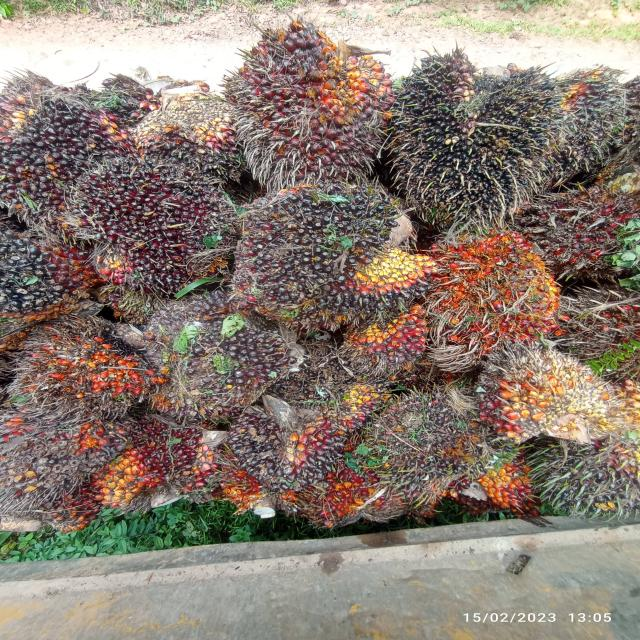fraksi 00: (222, 173, 449, 324), (392, 37, 560, 225), (0, 68, 135, 220), (353, 380, 495, 500), (143, 313, 300, 419), (221, 392, 354, 491)
fraksi 1: (55, 147, 248, 306), (0, 226, 101, 323), (335, 302, 445, 382)
fraksi 3: (202, 18, 406, 185), (76, 410, 228, 516), (494, 173, 638, 277)
fraksi 4: (414, 214, 570, 358), (6, 325, 171, 420), (0, 409, 128, 517)
